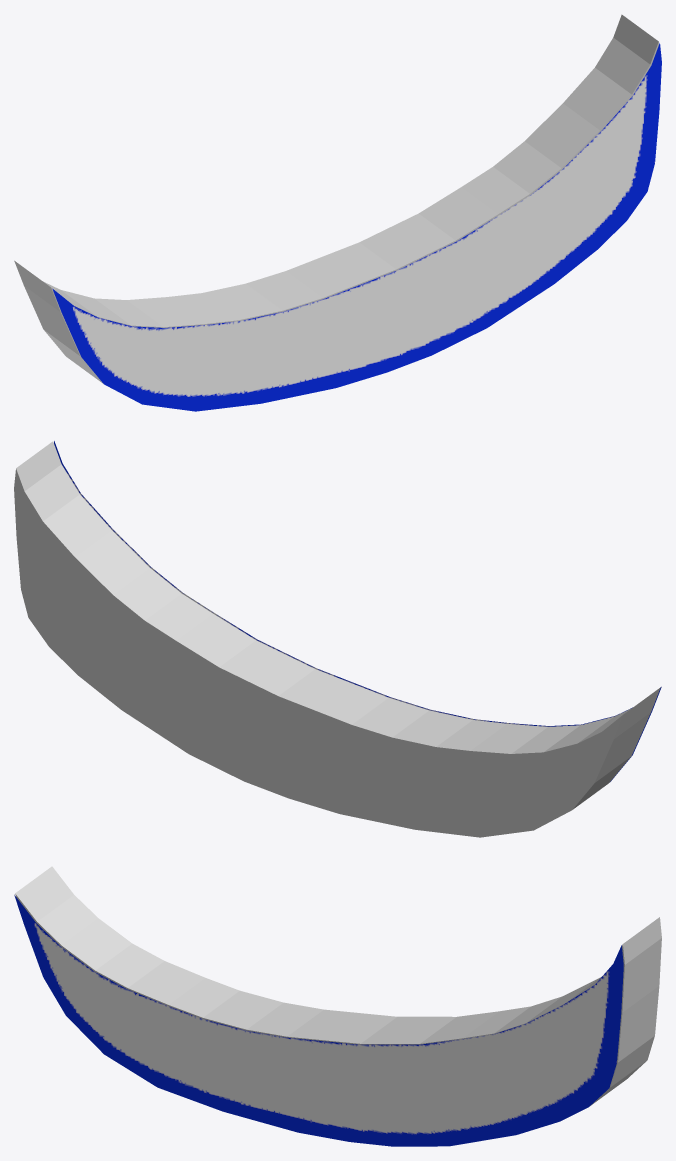
3 renders of one model, top to bottom at view 1: azimuth 30°, elevation 25°; view 2: azimuth 150°, elevation 25°; view 3: azimuth 330°, elevation 25°, orthographic.
Parts seen in each view (by area): view 1: In_11_1, In_11_0; view 2: In_11_0, In_11_1; view 3: In_11_1, In_11_0.
Boxes of the visible parts, box(x1,y1,x2,y2) form: In_11_1: box(52, 43, 661, 411); In_11_0: box(14, 14, 658, 383); In_11_0: box(14, 441, 660, 837); In_11_1: box(54, 441, 661, 781); In_11_1: box(14, 894, 623, 1146); In_11_0: box(15, 866, 661, 1105).
Bounding box in the file's own units: 4.75 × 1.99 × 0.515.
2 materials, 1 textured.
